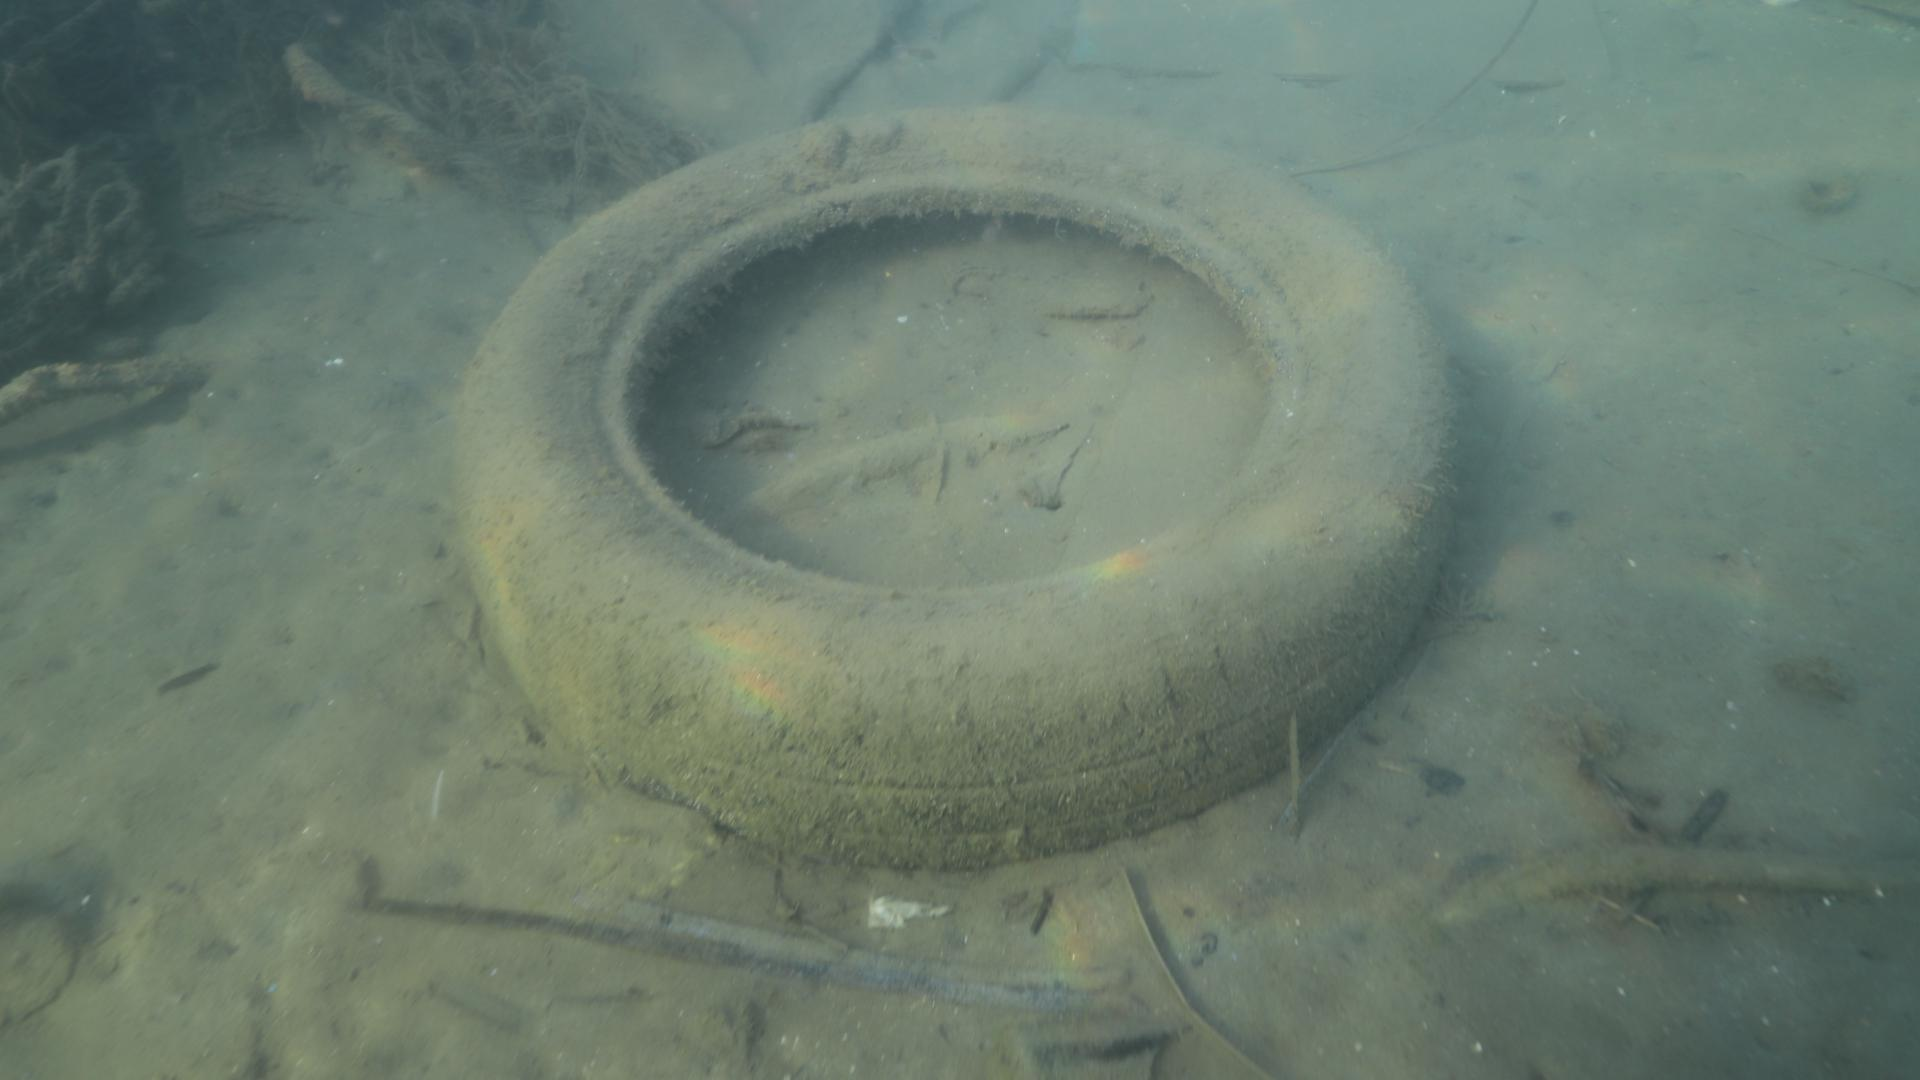tire: (444, 102, 1470, 878)
